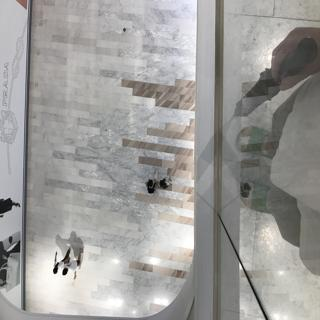person: (62, 248, 88, 281), (48, 246, 69, 272), (161, 174, 174, 195), (143, 174, 155, 196)
